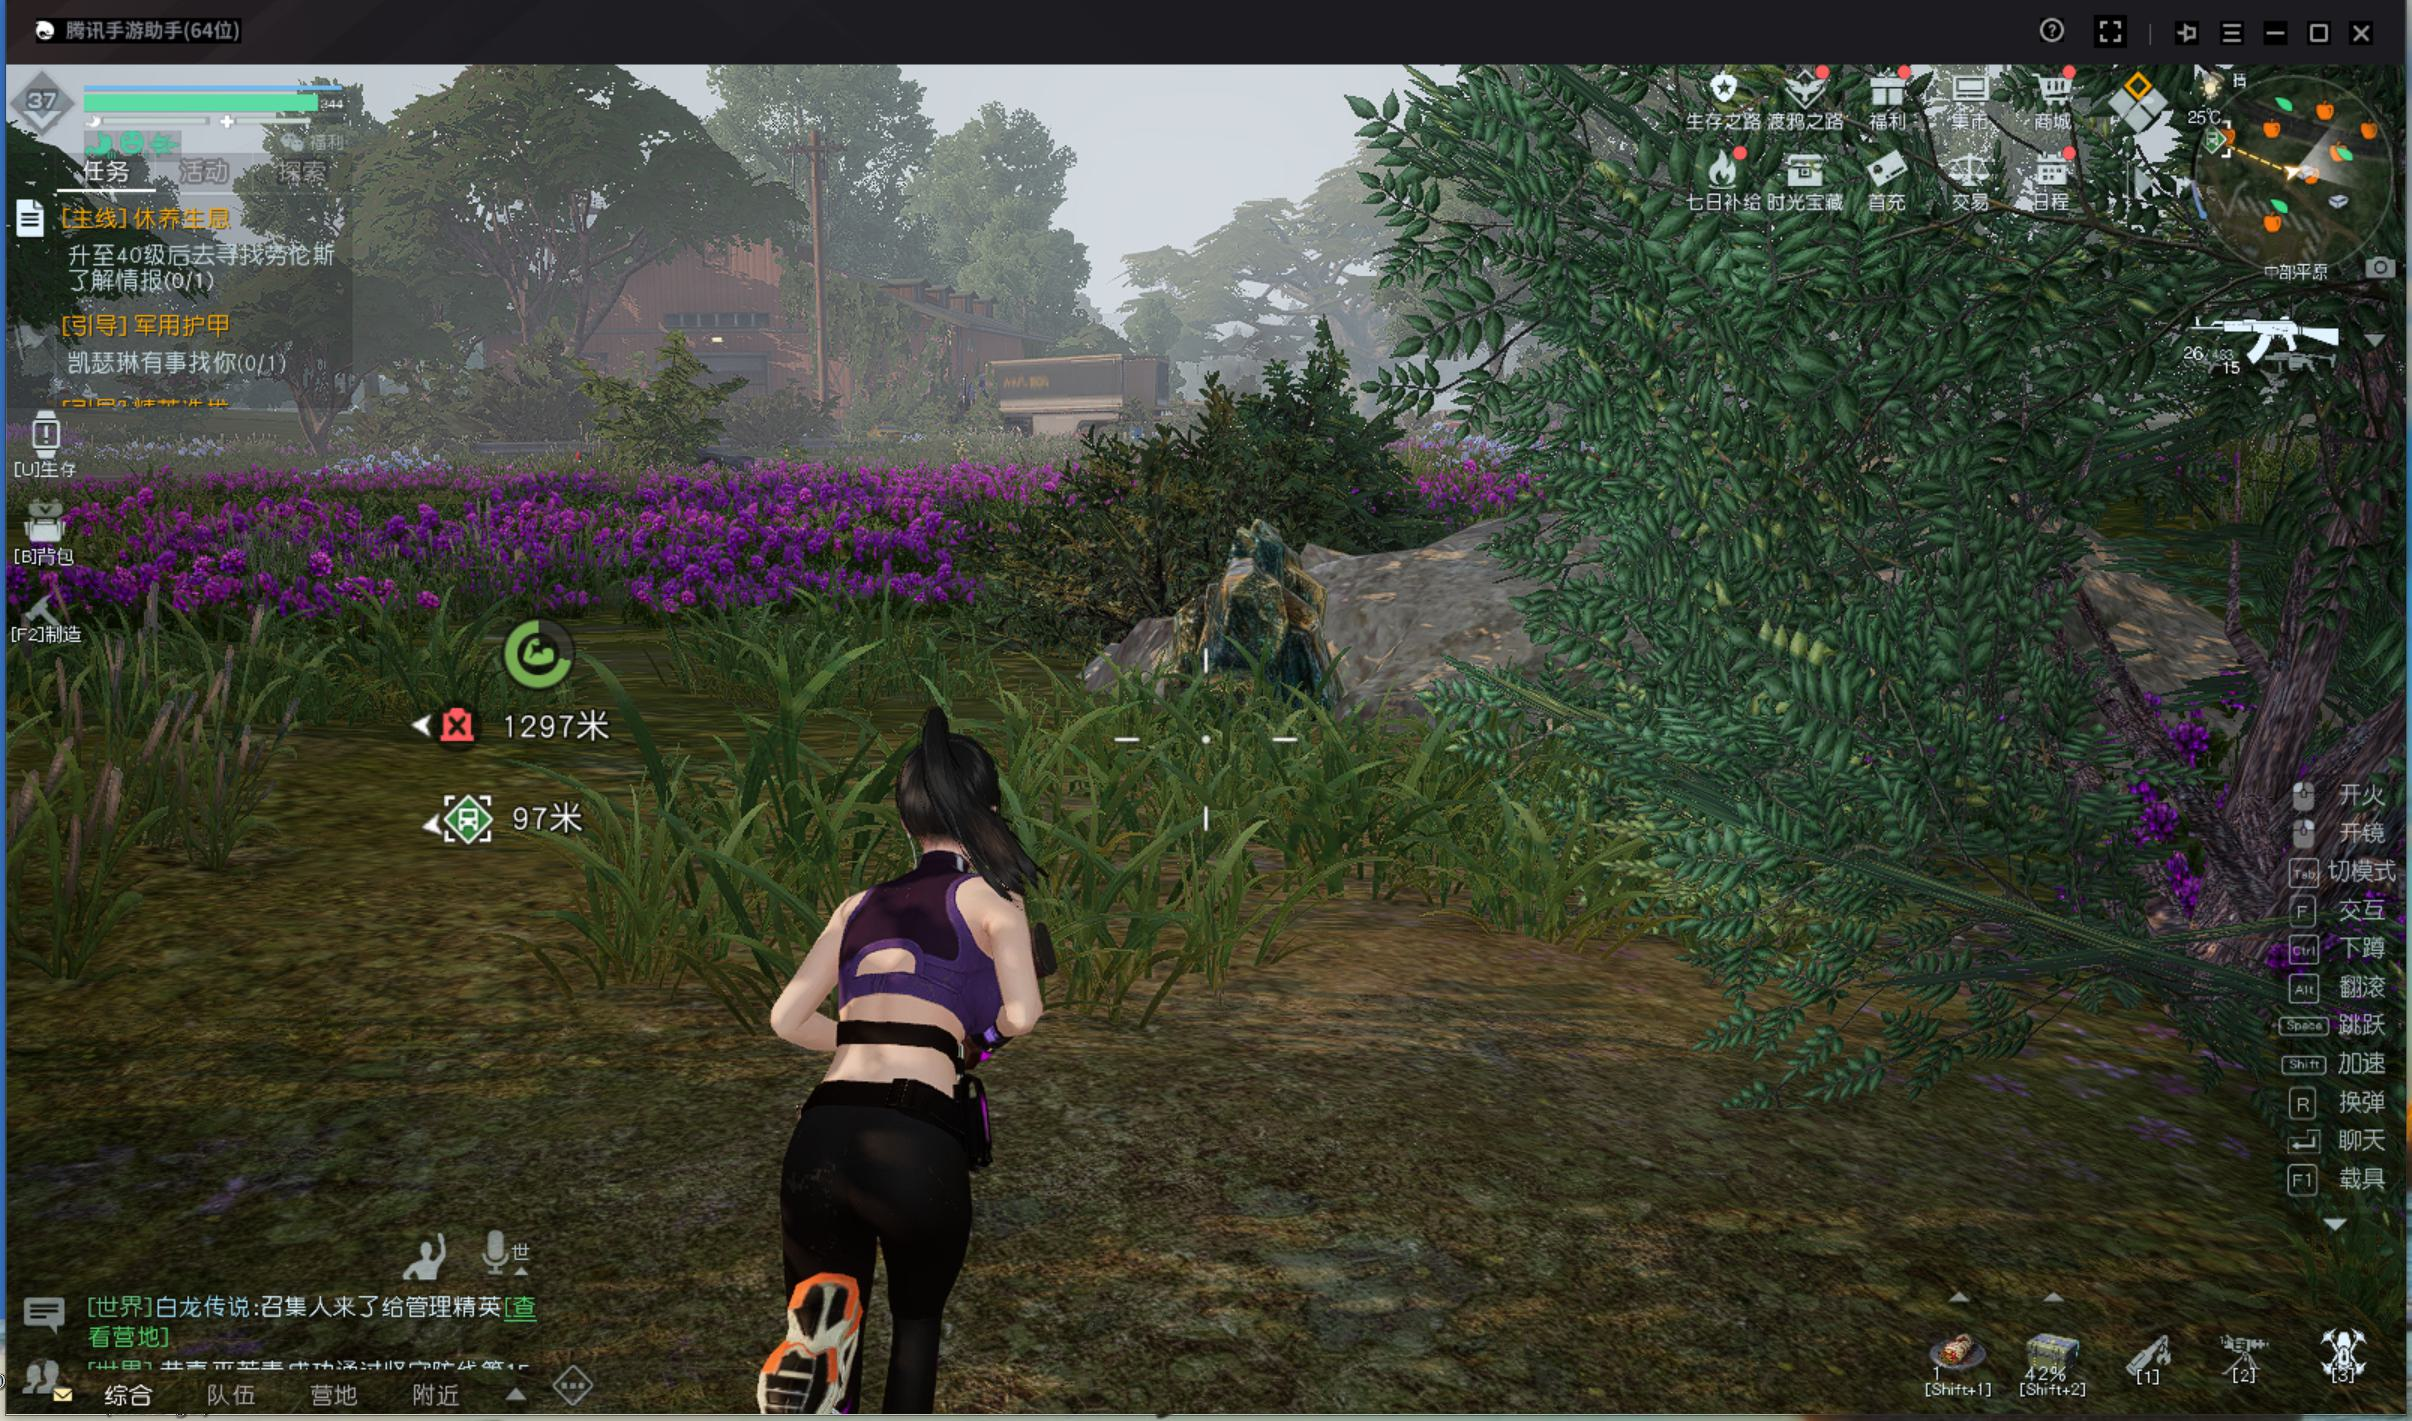stone: (1143, 524, 1362, 753)
